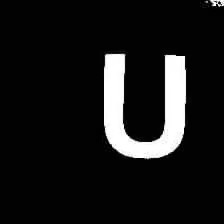LTR_U: (93, 42, 194, 163)
